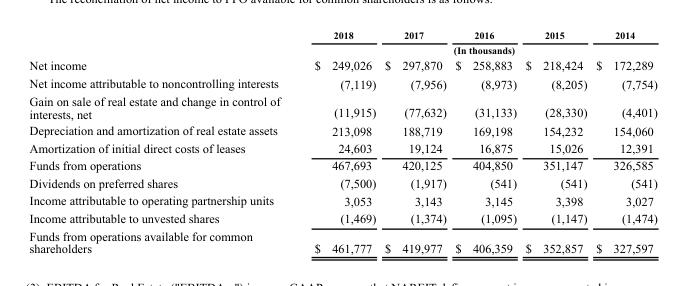table: (28, 29, 656, 254)
table column: (28, 29, 296, 254), (296, 29, 379, 254), (379, 29, 450, 254), (450, 29, 520, 254), (520, 29, 590, 254), (590, 29, 656, 254)
table column header: (28, 29, 656, 56)
table row: (28, 92, 656, 121), (28, 226, 656, 254), (28, 73, 656, 92), (28, 121, 656, 139), (28, 173, 656, 191), (28, 191, 656, 209), (28, 56, 656, 73), (28, 139, 656, 156), (28, 156, 656, 173), (28, 209, 656, 226), (28, 41, 656, 56), (28, 29, 656, 41)
table spanning cell: (296, 41, 656, 56)
